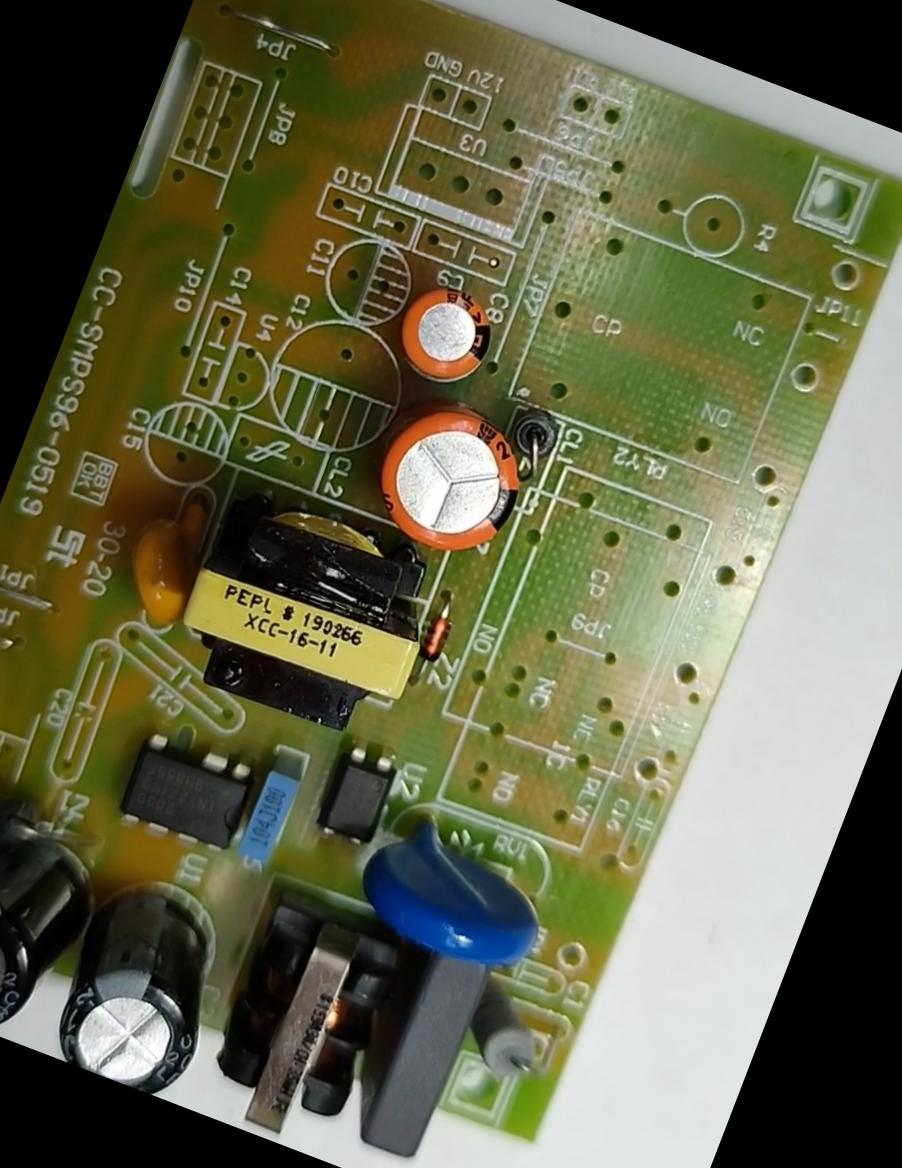Cap1: (352, 374, 550, 576)
Cap2: (377, 260, 513, 401)
Cap3: (35, 863, 256, 1106)
Cap4: (0, 799, 102, 1047)
MOSFET: (102, 718, 264, 862)
Mov: (340, 781, 577, 993)
Resistor: (456, 982, 557, 1094)
Transformer: (146, 465, 464, 760), (186, 877, 425, 1163)
